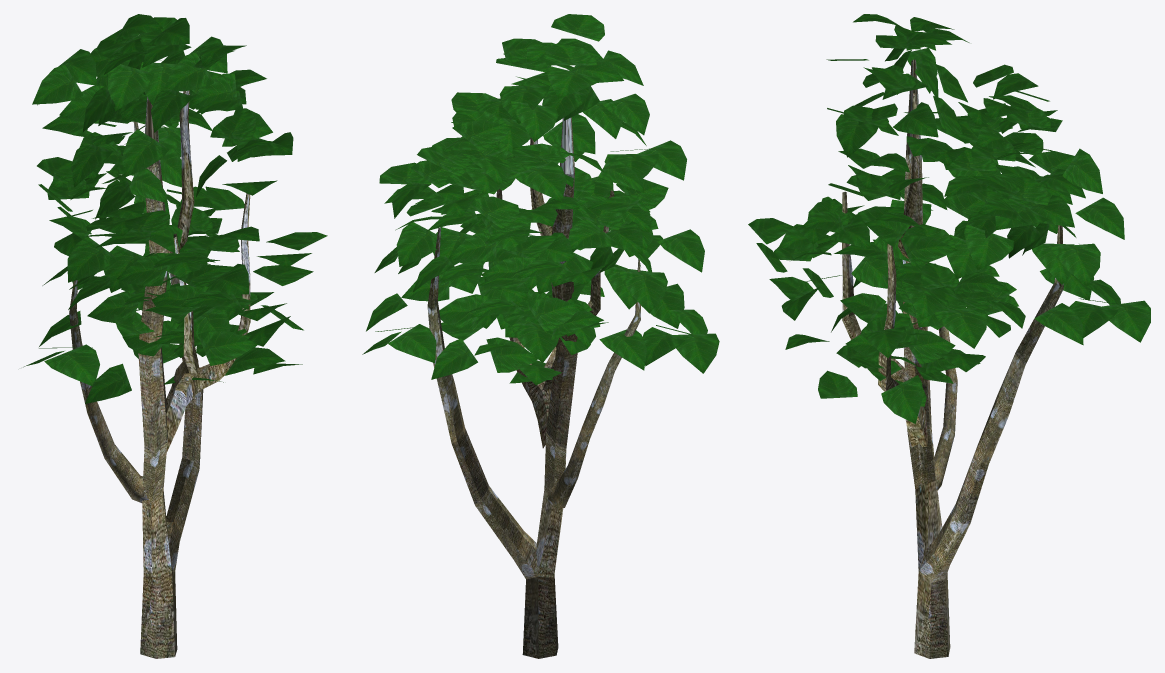
Rendered from cay-da-01.glb.
3 views of the same model, side by side, from view 1: azimuth 30°, elevation 25°; view 2: azimuth 150°, elevation 25°; view 3: azimuth 270°, elevation 25° (orthographic). The views are drawn at different scales.
Parts seen in each view (by area): view 1: CayDa_TranQuocVuong; view 2: CayDa_TranQuocVuong; view 3: CayDa_TranQuocVuong.
Boxes of the visible parts, x1=… form: CayDa_TranQuocVuong: x1=23, y1=14, x2=327, y2=658; CayDa_TranQuocVuong: x1=362, y1=14, x2=719, y2=658; CayDa_TranQuocVuong: x1=748, y1=14, x2=1150, y2=658.
Size of the model in its own units: 5.11 by 10.73 by 6.21.
1 material, 1 textured.
